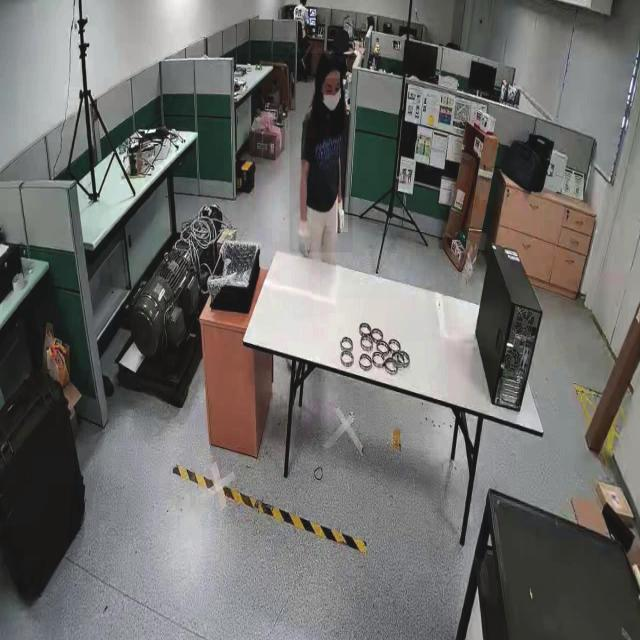face_mask: (320, 78, 344, 119)
hand_glove: (292, 212, 312, 250), (336, 197, 348, 233)
head_nohelmet: (317, 50, 344, 76)
person: (289, 54, 353, 254)
